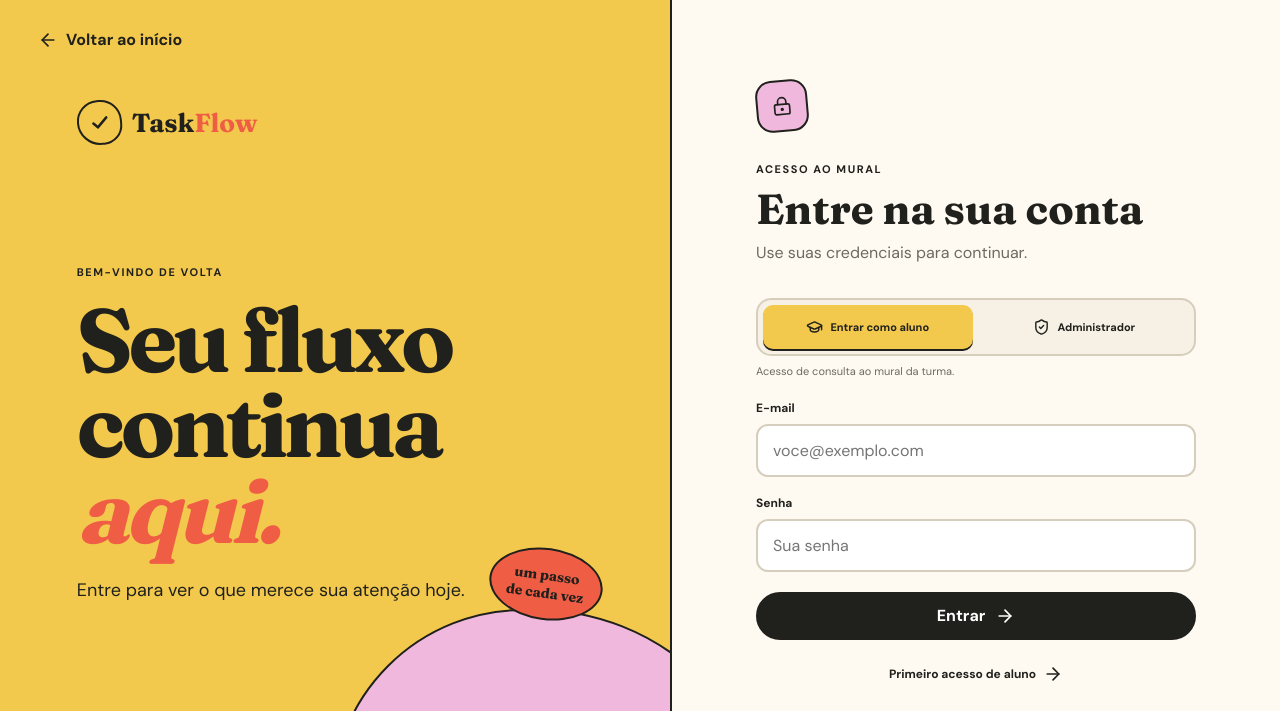
Test: falhas HTTP observadas nas páginas › Login trata HTTP 401
Type "x@y.com" into the field labelled "E-mail" at coordinates (976, 450), box [756,424,1196,477]
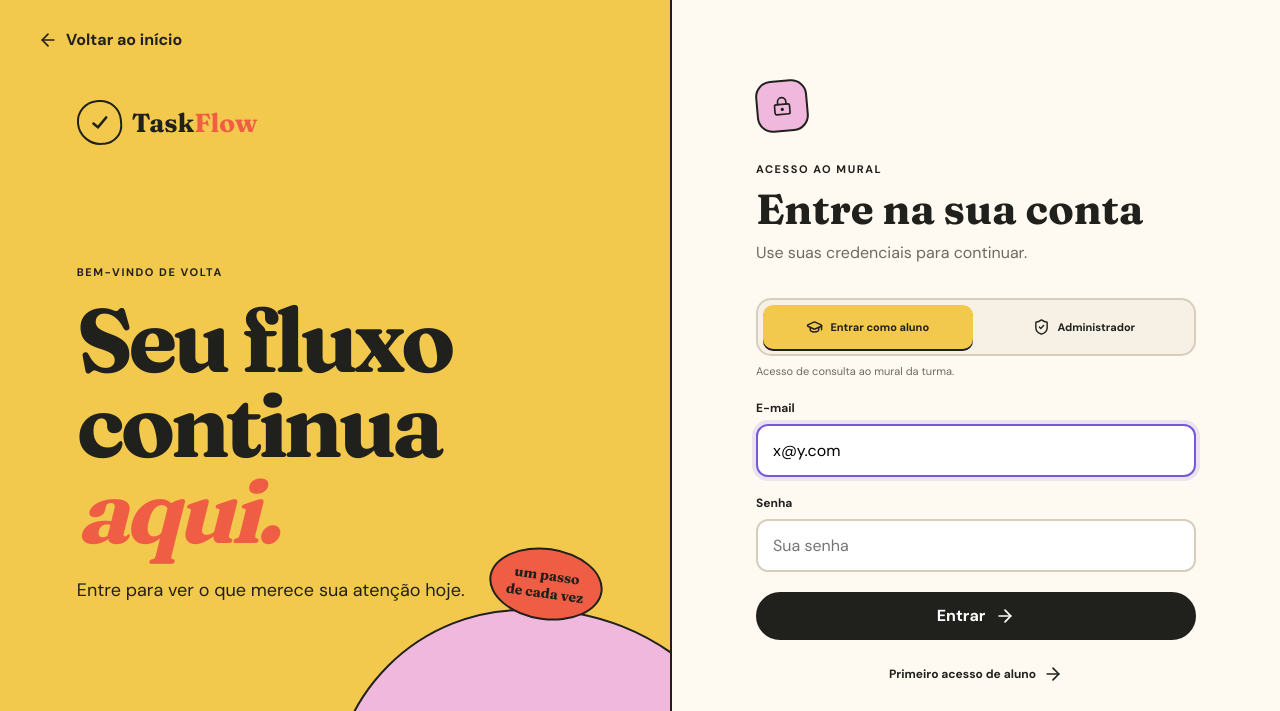
Type "password123" into the password field labelled "Senha" at coordinates (976, 545), box [756,519,1196,572]
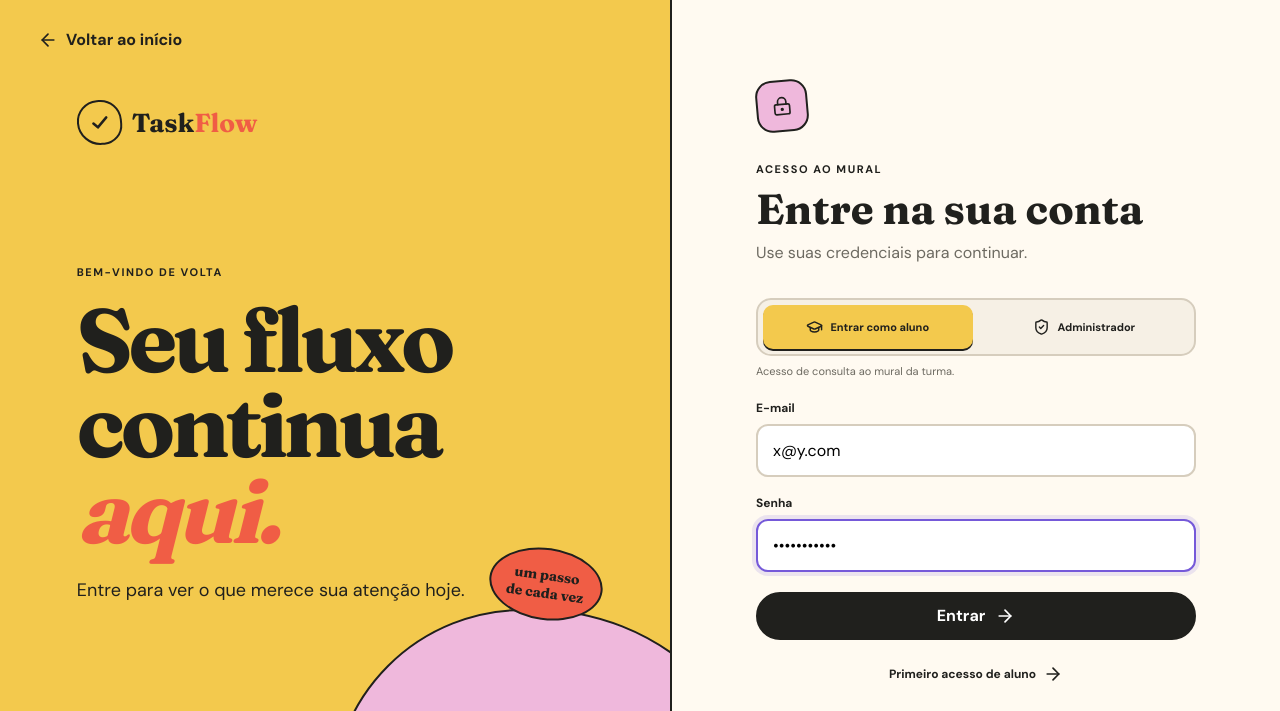
Click the button "Entrar" at coordinates (976, 616), box [756,592,1196,640]
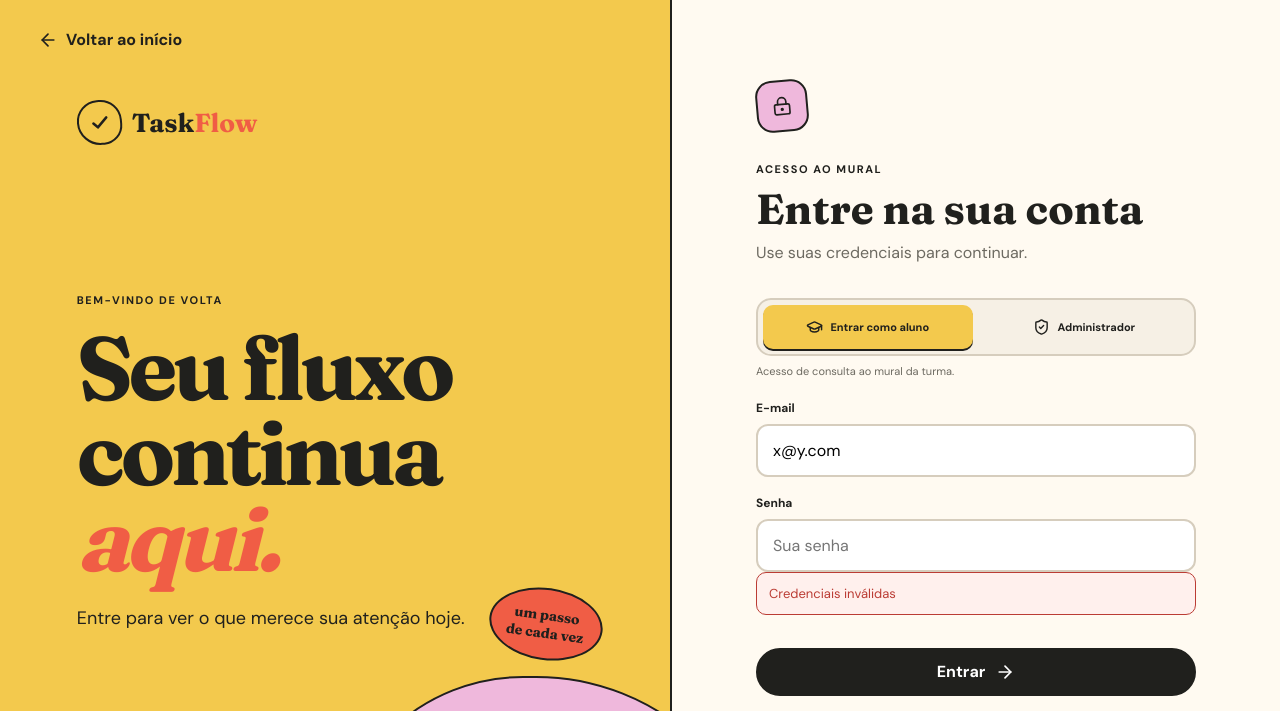
Now the message reads "Credenciais inválidas", box [769,585,896,602]
Now the password field labelled "Senha" is empty, box [756,519,1196,572]
